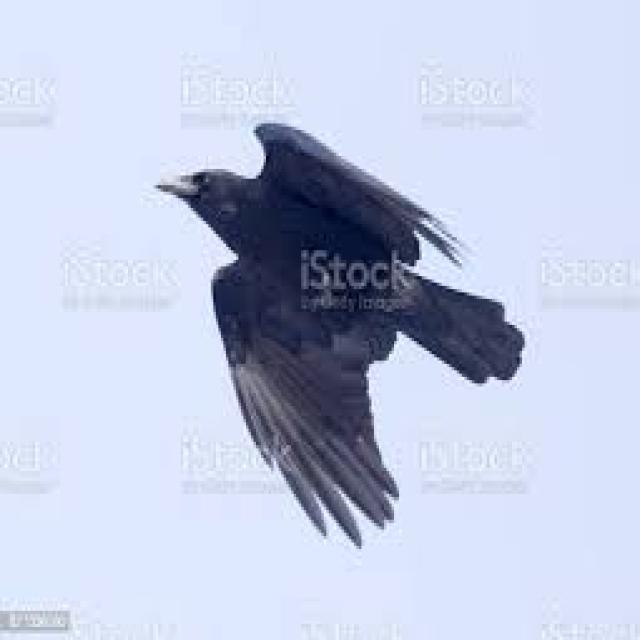bird: (152, 108, 533, 560)
